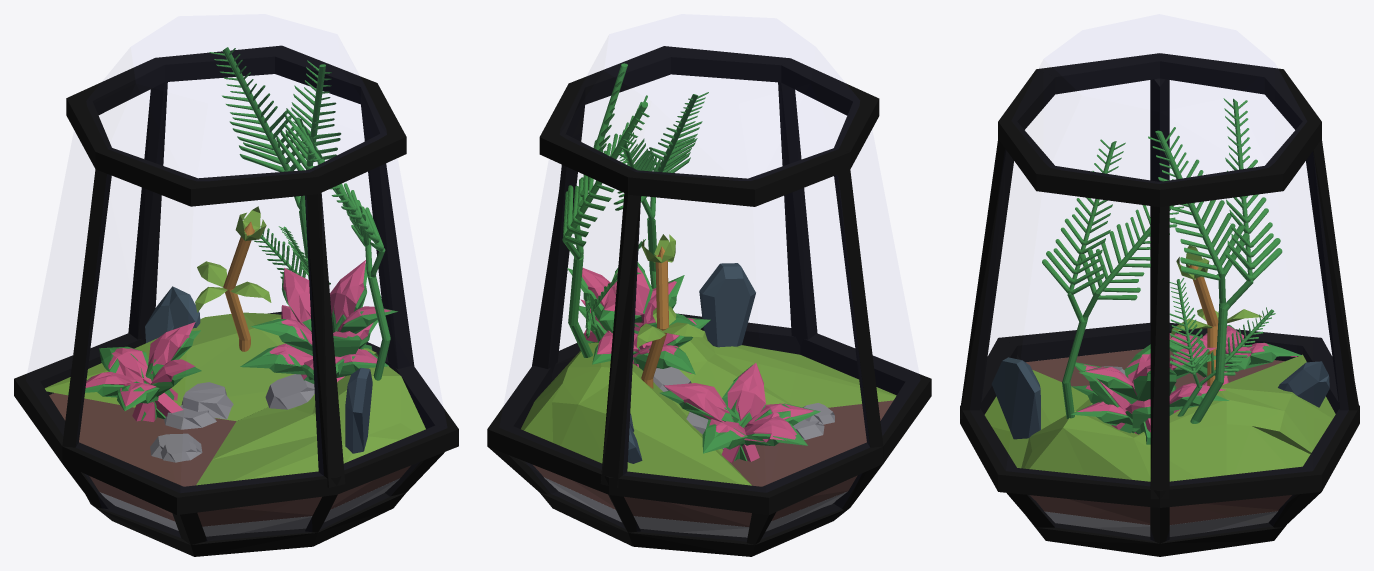
File: terranium.gltf
3 views of the same model, side by side, from view 1: azimuth 30°, elevation 25°; view 2: azimuth 150°, elevation 25°; view 3: azimuth 270°, elevation 25° (orthographic).
Visible parts, largest first — view 1: node_MeshObject1616180672-PolyPaper10, node_MeshObject-1060519360-PolyPaper10, node_MeshObject930778816-PolyPaper10; view 2: node_MeshObject1616180672-PolyPaper10, node_MeshObject-1060519360-PolyPaper10, node_MeshObject930778816-PolyPaper10; view 3: node_MeshObject1616180672-PolyPaper10, node_MeshObject-1060519360-PolyPaper10, node_MeshObject930778816-PolyPaper10.
Boxes of the visible parts, x1=… form: node_MeshObject1616180672-PolyPaper10: x1=14, y1=45, x2=425, y2=556; node_MeshObject-1060519360-PolyPaper10: x1=67, y1=117, x2=458, y2=514; node_MeshObject930778816-PolyPaper10: x1=209, y1=47, x2=385, y2=284; node_MeshObject1616180672-PolyPaper10: x1=487, y1=46, x2=931, y2=556; node_MeshObject-1060519360-PolyPaper10: x1=552, y1=92, x2=930, y2=462; node_MeshObject930778816-PolyPaper10: x1=562, y1=63, x2=697, y2=357; node_MeshObject1616180672-PolyPaper10: x1=960, y1=53, x2=1359, y2=556; node_MeshObject-1060519360-PolyPaper10: x1=960, y1=139, x2=1301, y2=527; node_MeshObject930778816-PolyPaper10: x1=1067, y1=98, x2=1282, y2=423.
Size of the model in its own units: 0.6045 by 0.7166 by 0.6045.
